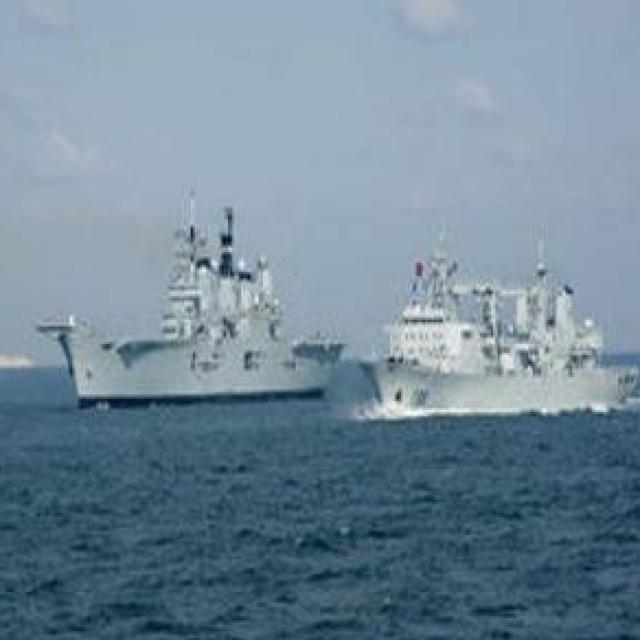navalvessels: (53, 197, 367, 416), (318, 240, 634, 423)
